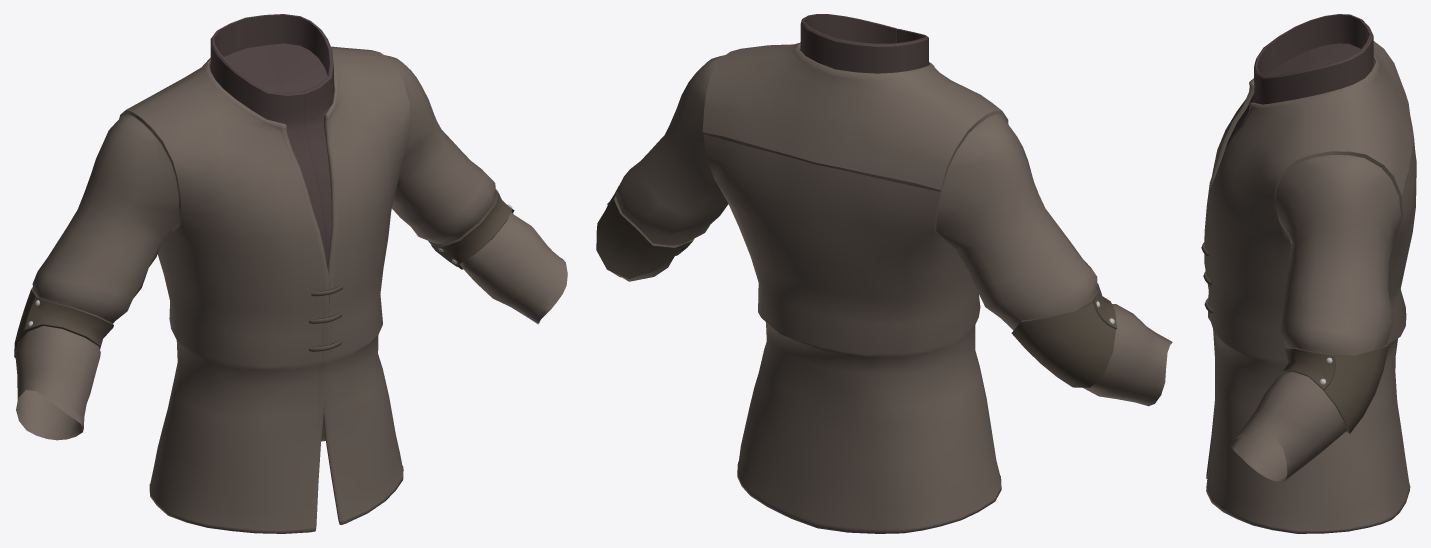
The model's file is highlander-shirt.fbx.
3 views of the same model, side by side, from view 1: azimuth 30°, elevation 25°; view 2: azimuth 150°, elevation 25°; view 3: azimuth 270°, elevation 25° (orthographic). The views are drawn at different scales.
Visible parts, largest first — view 1: topA_geo, innerTop_geo, elbowPads_geo; view 2: topA_geo, elbowPads_geo, innerTop_geo; view 3: topA_geo, innerTop_geo, elbowPads_geo.
Part boxes in pixels (left/top/right/bottom): topA_geo: left=15, top=46, right=567, bottom=533; innerTop_geo: left=209, top=14, right=333, bottom=267; elbowPads_geo: left=14, top=189, right=514, bottom=357; topA_geo: left=597, top=42, right=1172, bottom=533; elbowPads_geo: left=596, top=186, right=1117, bottom=387; innerTop_geo: left=800, top=14, right=928, bottom=73; topA_geo: left=1204, top=41, right=1416, bottom=533; innerTop_geo: left=1224, top=14, right=1374, bottom=152; elbowPads_geo: left=1283, top=344, right=1388, bottom=433.
Bounding box in the file's own units: 93.08 × 74.45 × 31.85.
